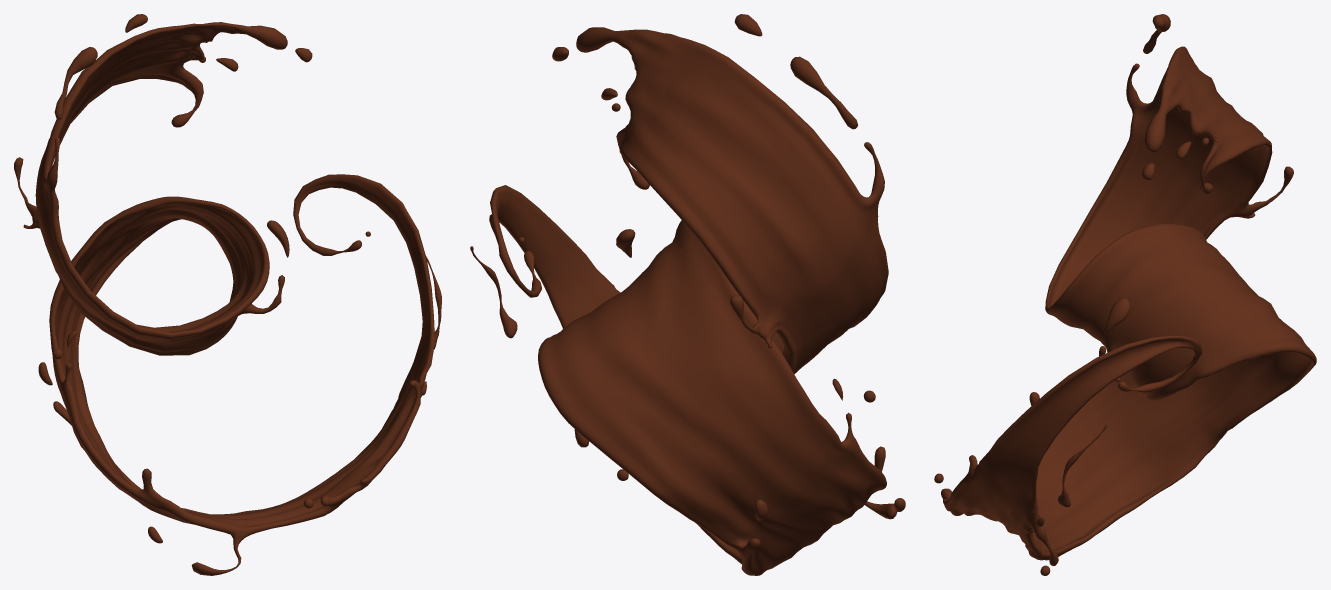
3 renders of one model, left to right at view 1: azimuth 30°, elevation 25°; view 2: azimuth 150°, elevation 25°; view 3: azimuth 270°, elevation 25°, orthographic. The views are drawn at different scales.
Visible parts, largest first — view 1: chocolate_splash_003; view 2: chocolate_splash_003; view 3: chocolate_splash_003.
Part boxes in pixels (x1=…): chocolate_splash_003: x1=14, y1=14, x2=441, y2=575; chocolate_splash_003: x1=470, y1=14, x2=905, y2=575; chocolate_splash_003: x1=934, y1=14, x2=1316, y2=575.
Bounding box in the file's own units: 37.56 × 48.81 × 33.59.
Materials: 1 (1 with a texture image).
